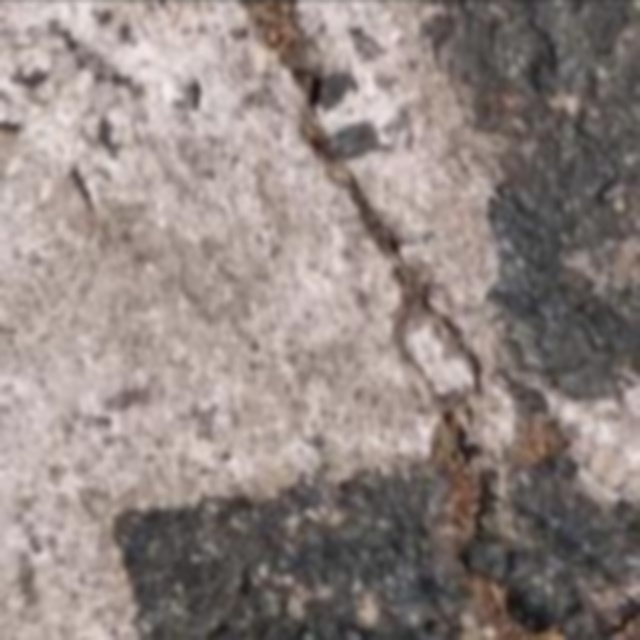SurfaceCrack: (262, 62, 472, 408)
